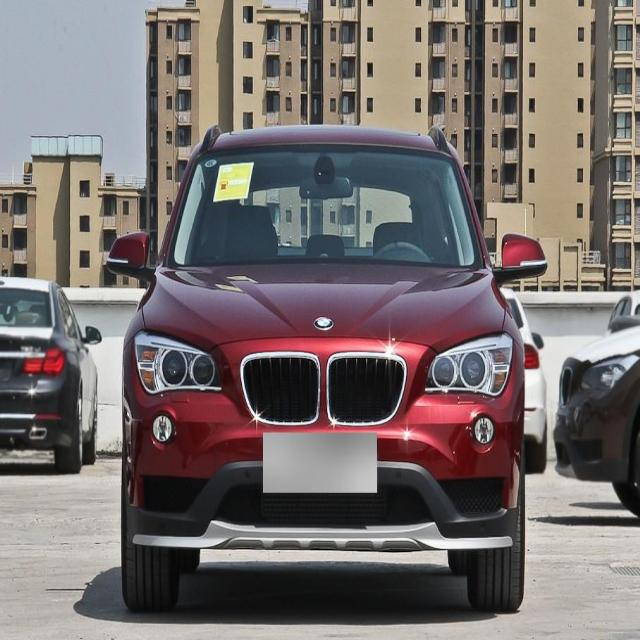front_glass: (165, 146, 488, 271)
front_left_side_light: (124, 449, 527, 562), (419, 328, 517, 398)
front_left_side_mirror: (496, 232, 548, 284)
front_right_side_light: (130, 326, 228, 396)
front_right_side_mirror: (104, 229, 154, 285)
